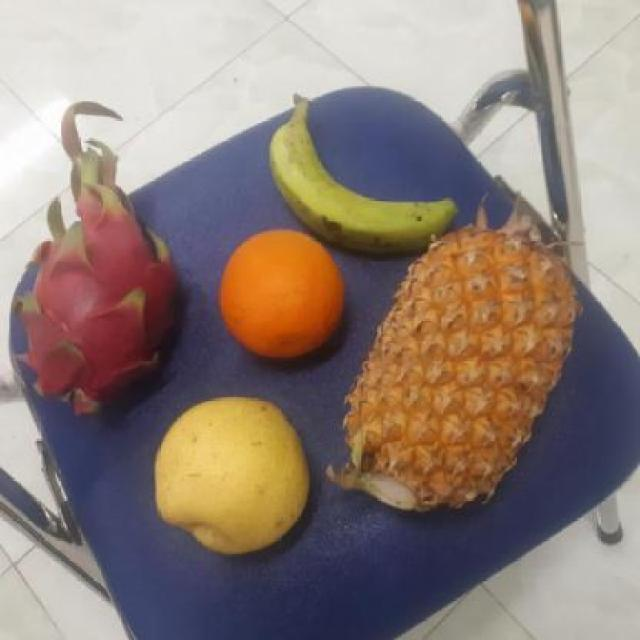banana: (270, 102, 464, 252)
dragon fruit: (13, 199, 185, 426)
oren: (212, 229, 352, 363)
pear: (146, 399, 319, 561)
pineapple: (337, 232, 586, 508)
